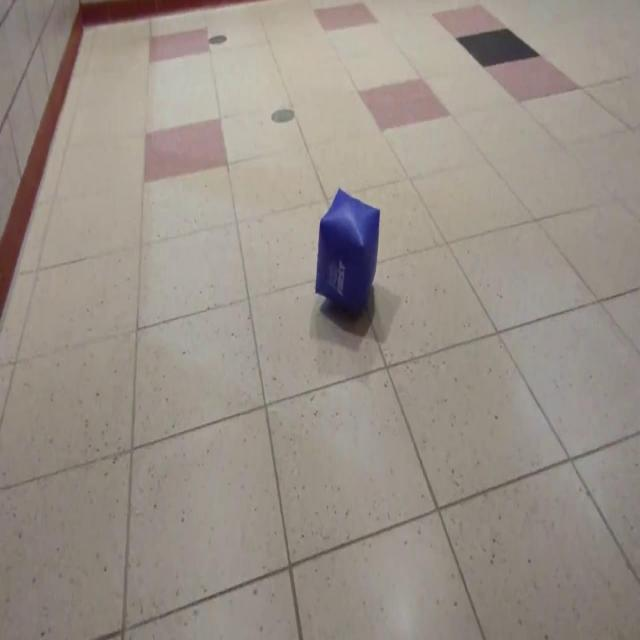frc_cube: (314, 188, 380, 322)
